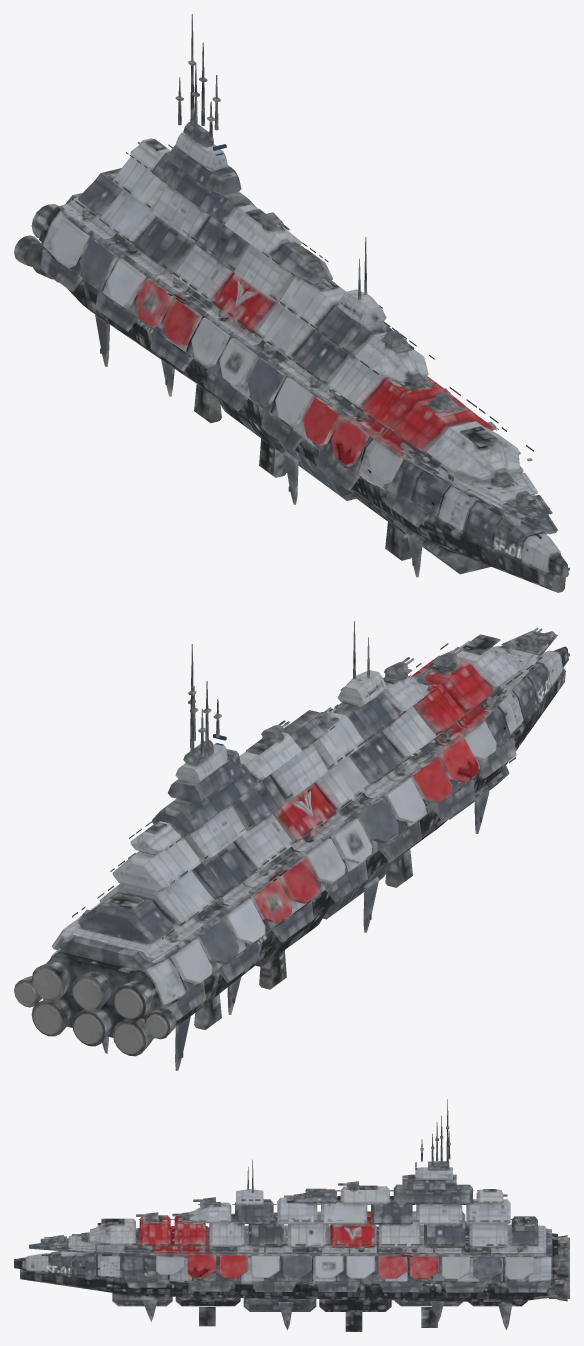
File: dreadnought-half.webp.glb
3 views of the same model, one above another, from view 1: azimuth 30°, elevation 25°; view 2: azimuth 150°, elevation 25°; view 3: azimuth 270°, elevation 25° (orthographic). The views are drawn at different scales.
Visible parts, largest first — view 1: hull_dreadnought; view 2: hull_dreadnought; view 3: hull_dreadnought.
Boxes of the visible parts, x1=… form: hull_dreadnought: x1=14, y1=14, x2=569, y2=592; hull_dreadnought: x1=14, y1=621, x2=569, y2=1070; hull_dreadnought: x1=14, y1=1099, x2=569, y2=1331.
Bounding box in the file's own units: 139 × 338 × 736.
Materials: 1 (1 with a texture image).
